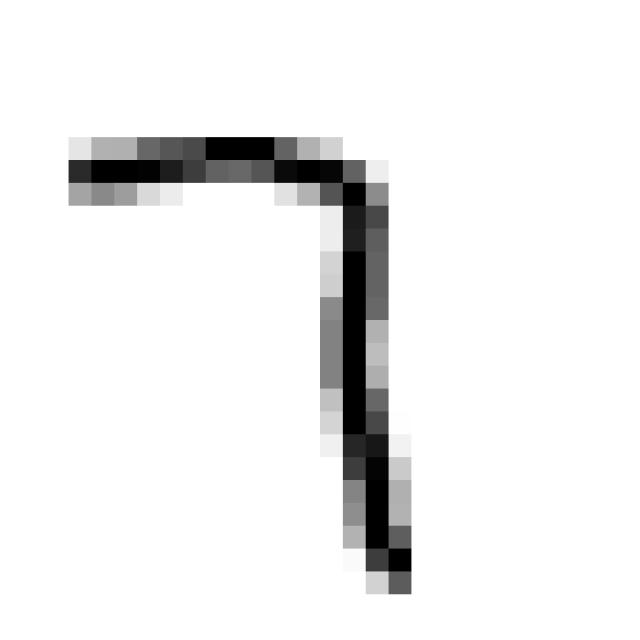6 -six-: (50, 114, 435, 612)
